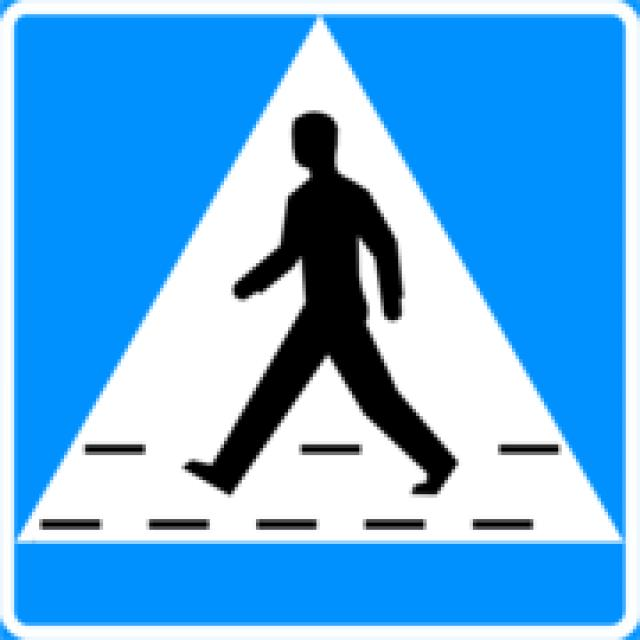Pedestrian crosswalk: (15, 16, 622, 566)
